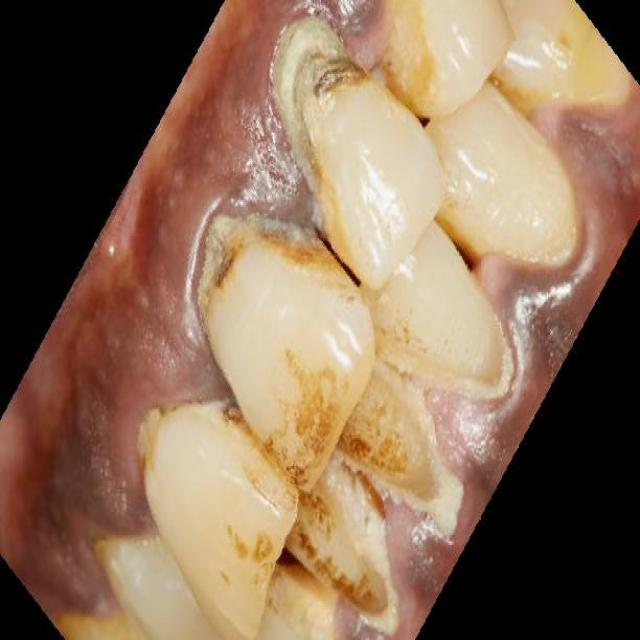calculus: (180, 204, 360, 385), (266, 18, 380, 177)
